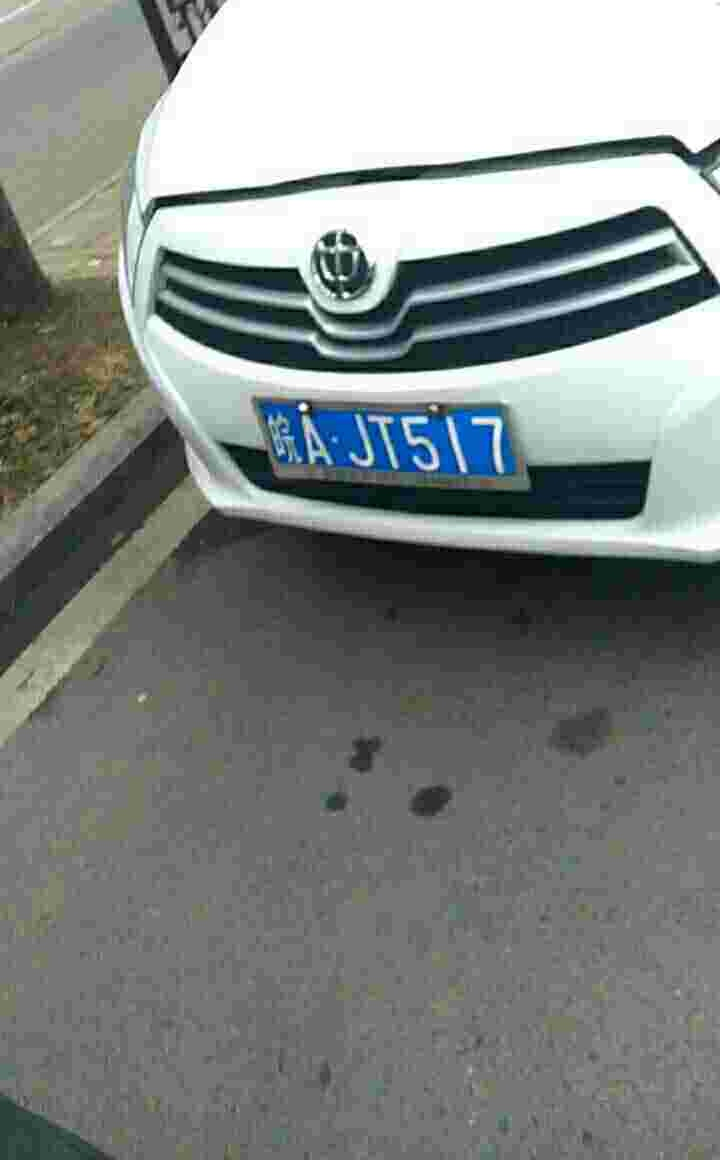license_plate: (273, 404, 515, 485)
